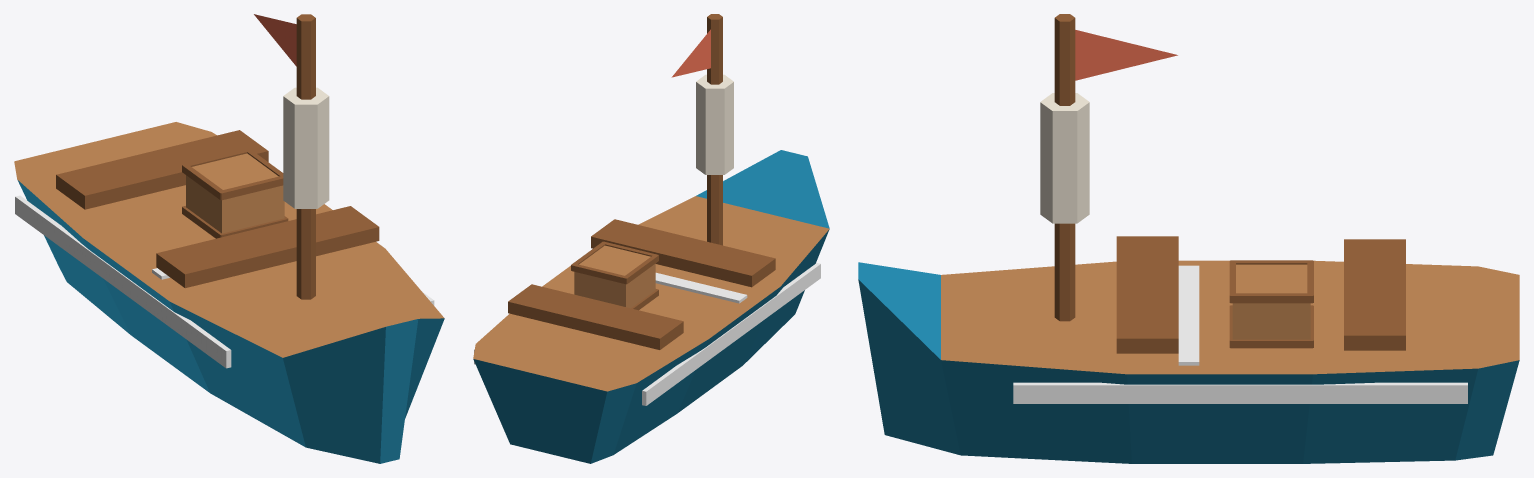
Rendered from boat.glb.
3 views of the same model, side by side, from view 1: azimuth 30°, elevation 25°; view 2: azimuth 150°, elevation 25°; view 3: azimuth 270°, elevation 25° (orthographic). The views are drawn at different scales.
Visible parts, largest first — view 1: boat; view 2: boat; view 3: boat.
Boxes of the visible parts, x1=… form: boat: x1=14, y1=14, x2=444, y2=463; boat: x1=473, y1=14, x2=829, y2=463; boat: x1=858, y1=14, x2=1519, y2=463.
Bounding box in the file's own units: 1.3 × 2.2 × 3.2.
